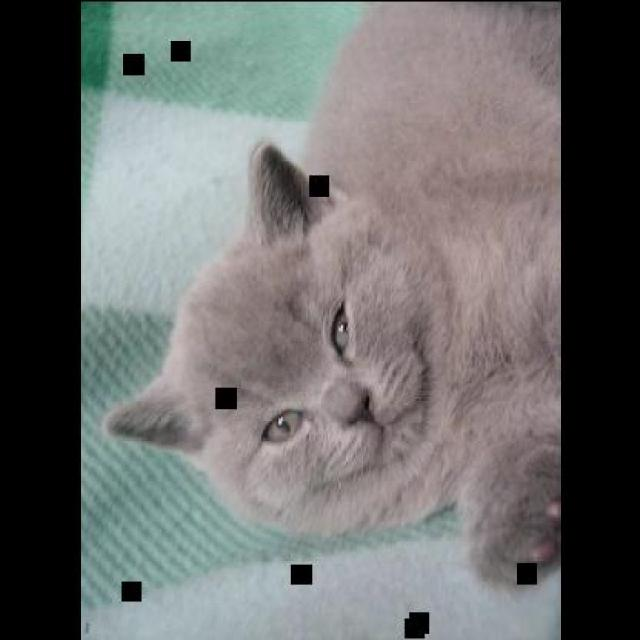unauthorized: (102, 1, 560, 588)
